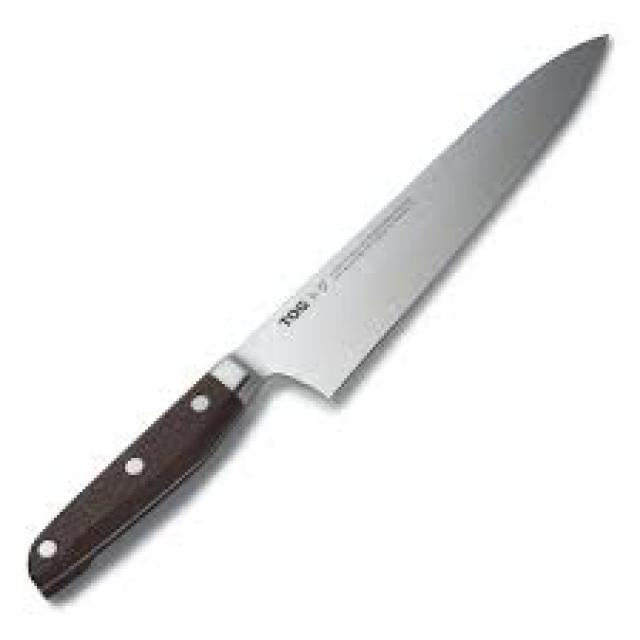knives: (20, 25, 617, 606)
